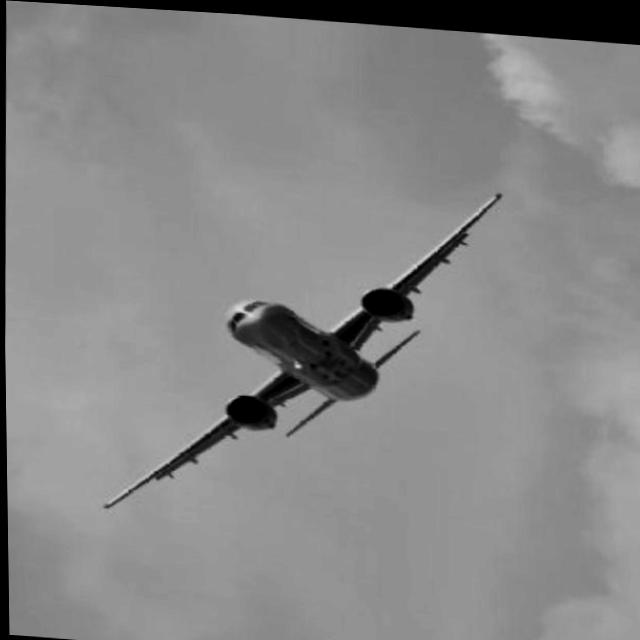aeroplane: (84, 156, 513, 539)
